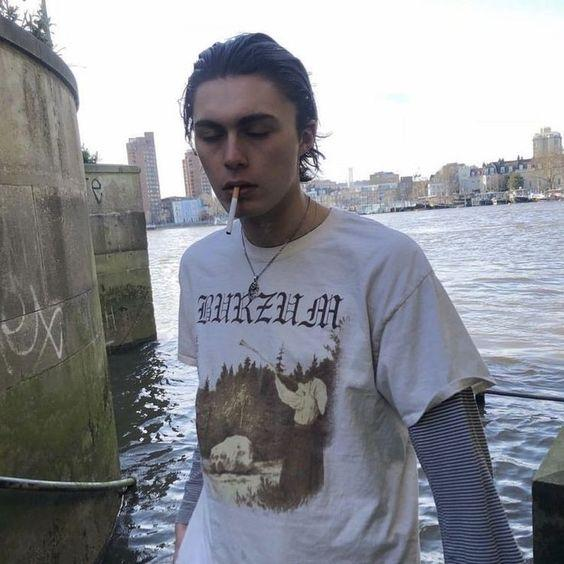cigarette: (224, 185, 242, 238)
